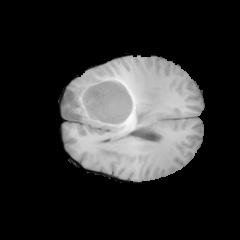glioma: (62, 68, 144, 136)
